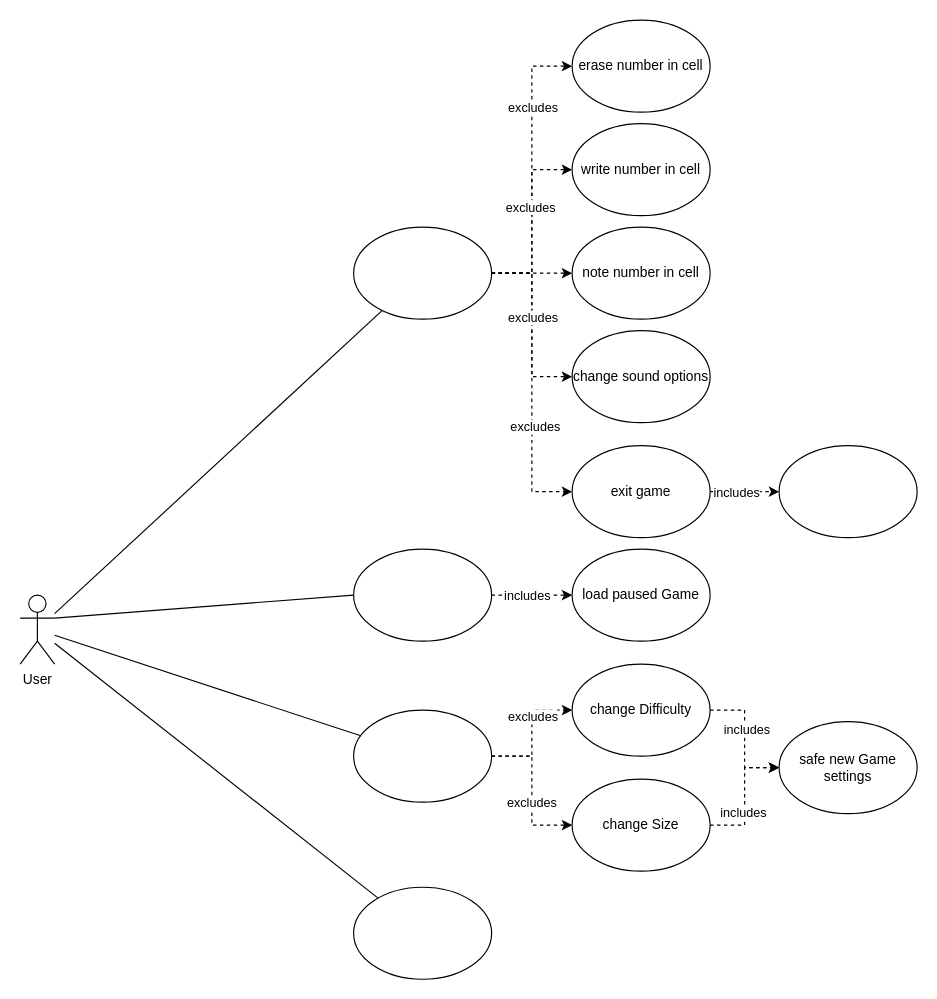
Image size: 937x999. Some labels were removed from this diagram. The centre of each missing label's shape, as x and y in pixels:
continue Game: [422,594]
Options: [422,755]
play new Game: [422,272]
safe game as paused Game: [847,491]
view statistics: [422,932]
